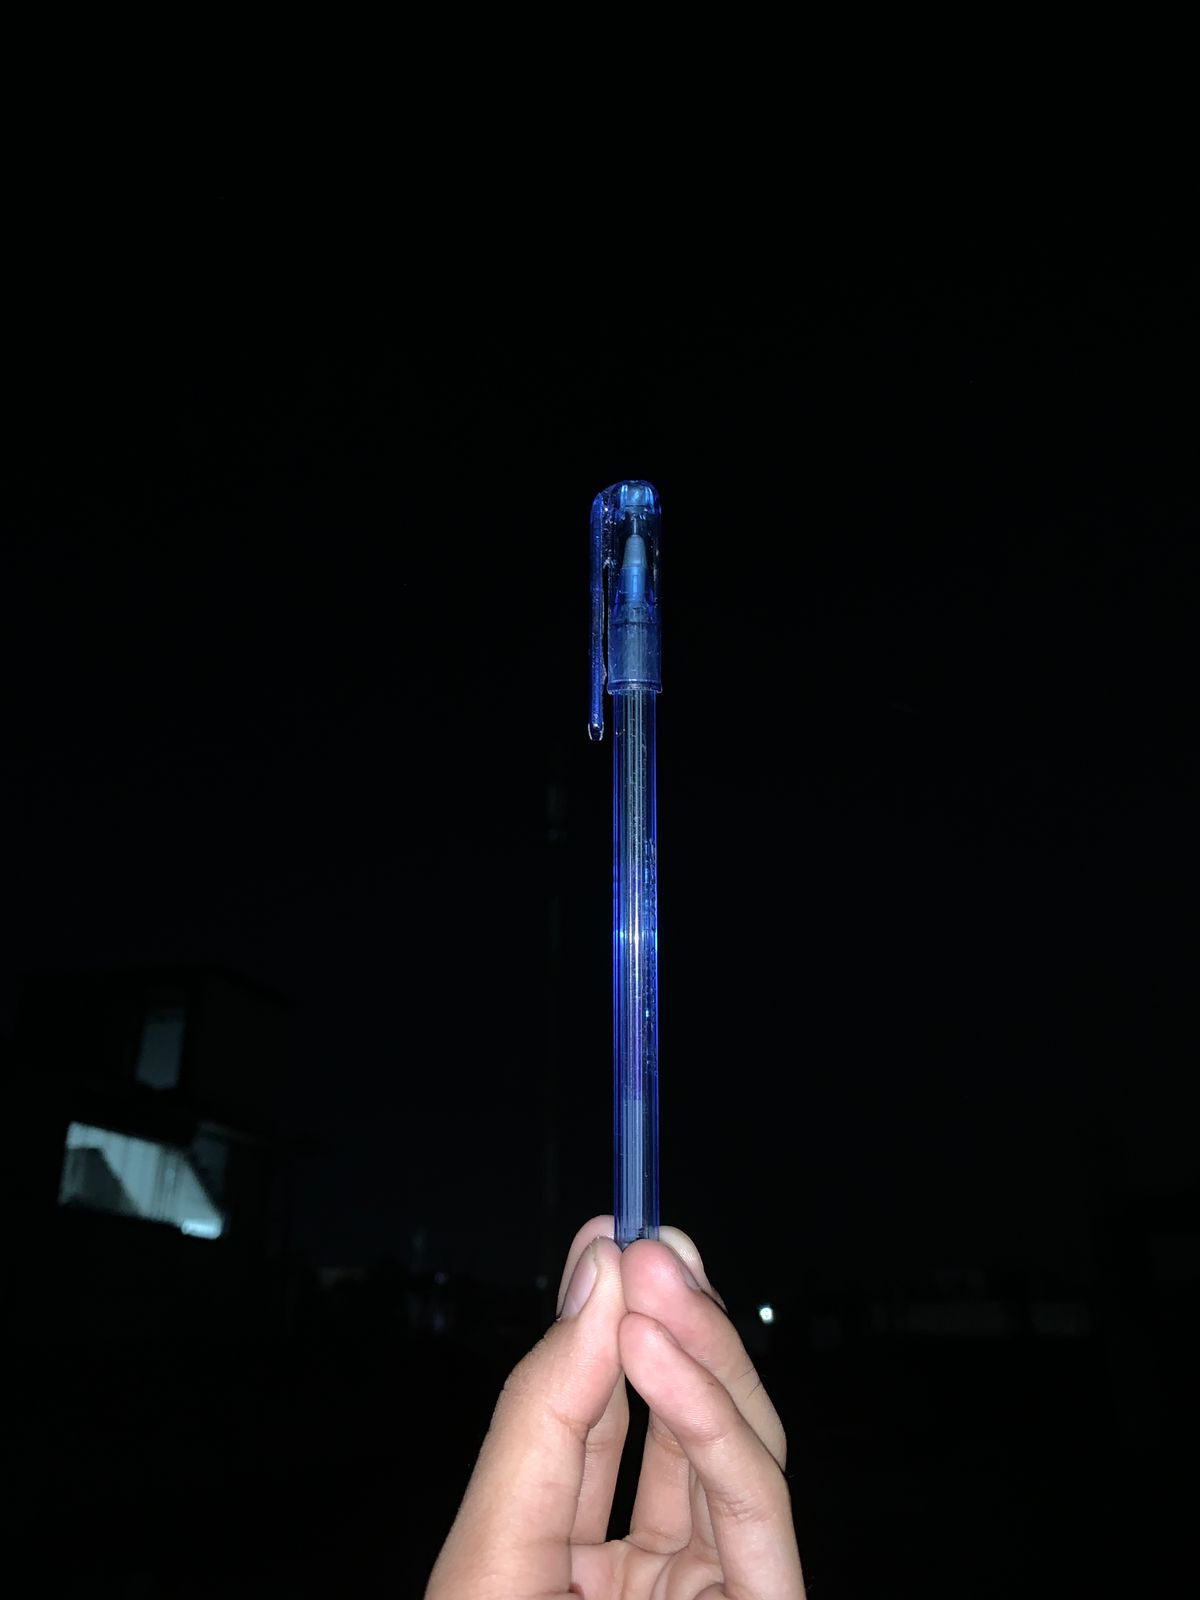pen: (470, 430, 821, 1371)
